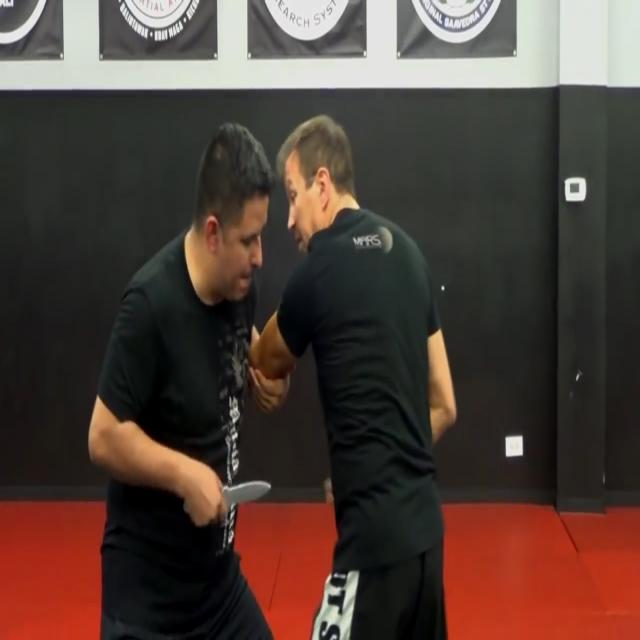knife: (218, 479, 275, 512)
